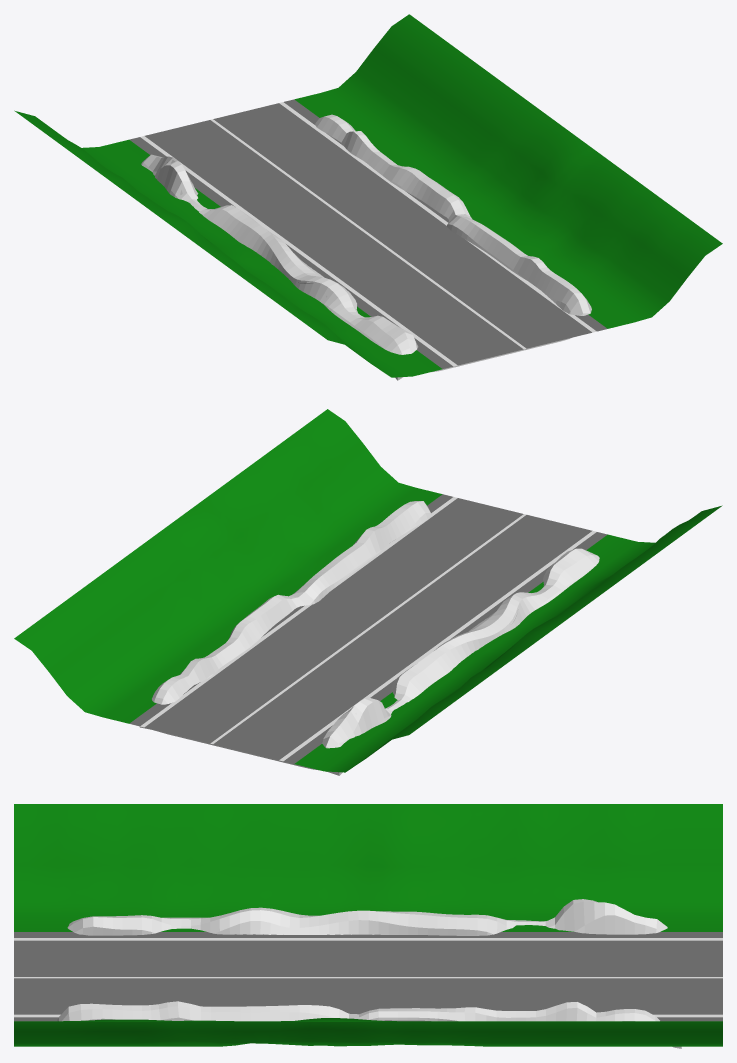
The model's file is road3.fbx.
3 views of the same model, one above another, from view 1: azimuth 30°, elevation 25°; view 2: azimuth 150°, elevation 25°; view 3: azimuth 270°, elevation 25° (orthographic). The views are drawn at different scales.
Visible parts, largest first — view 1: Quad Sphere; view 2: Quad Sphere; view 3: Quad Sphere.
Part boxes in pixels (x1,y1,x2,y2): Quad Sphere: [14, 14, 722, 380]; Quad Sphere: [14, 409, 722, 775]; Quad Sphere: [14, 804, 722, 1048].
Size of the model in its own units: 660 by 121 by 907.
